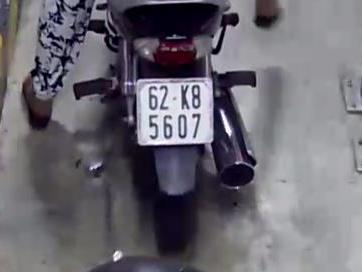num_plate: (136, 79, 213, 143)
